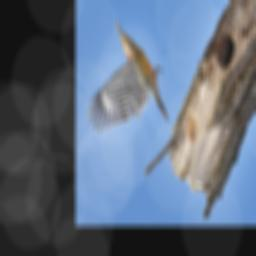Woodpecker: (85, 18, 170, 136)
